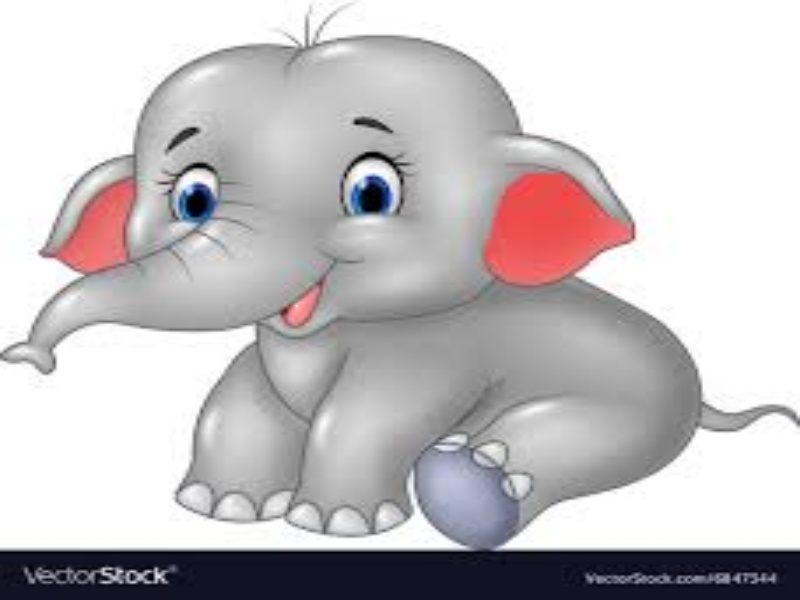elephant: (1, 39, 714, 534)
